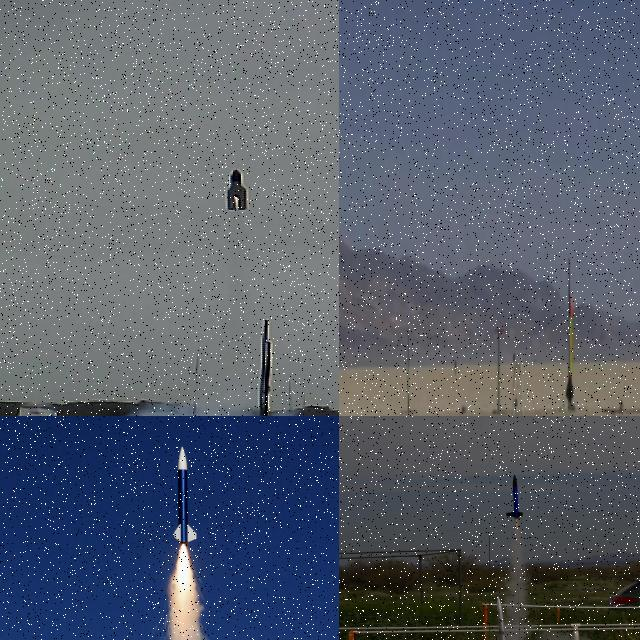Rocket: (174, 446, 198, 546), (490, 596, 519, 640), (226, 169, 248, 211), (566, 299, 574, 403), (507, 474, 524, 520)
